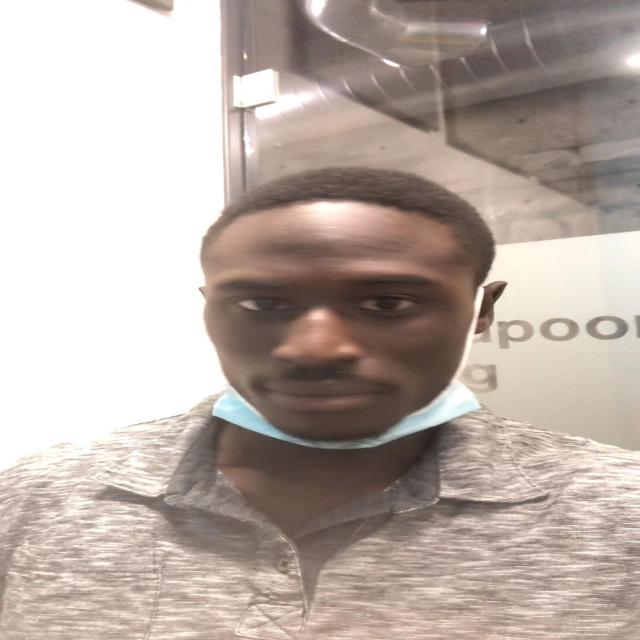face: (199, 220, 475, 444)
